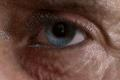eye: (46, 22, 75, 46)
